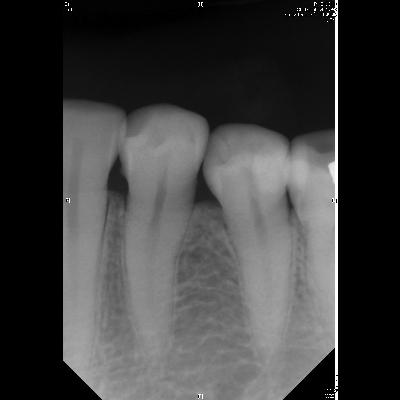tooth: (117, 101, 211, 365), (201, 122, 291, 374)
